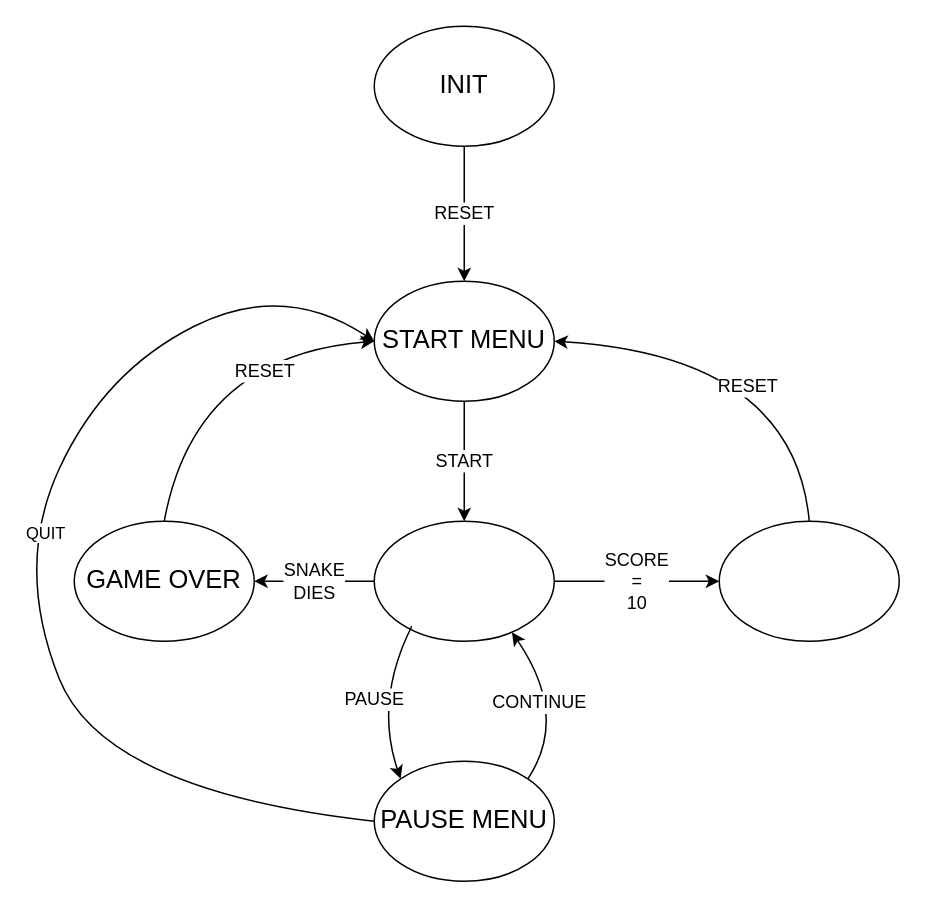
The diagram is 926 pixels wide and 908 high, and some of its shapes have lost their labels. Each missing label, with the centre of its shape:
SNAKE GAME: the point at 463,580
Winner: the point at 808,580
